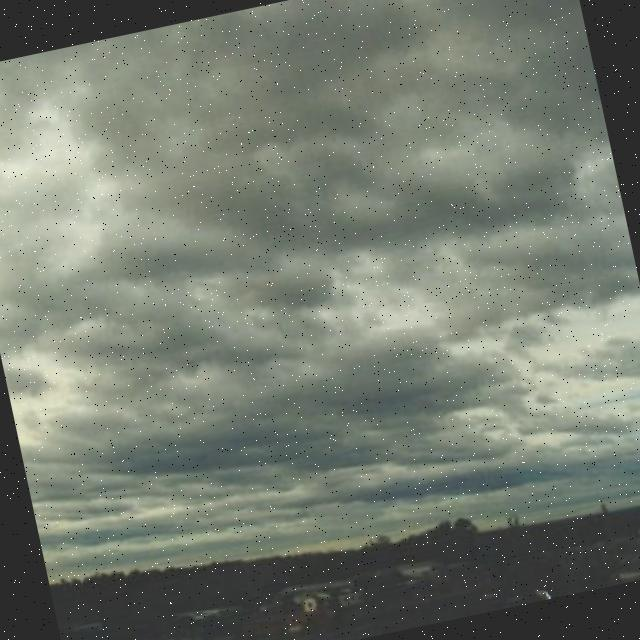Cs: (1, 1, 640, 531)
